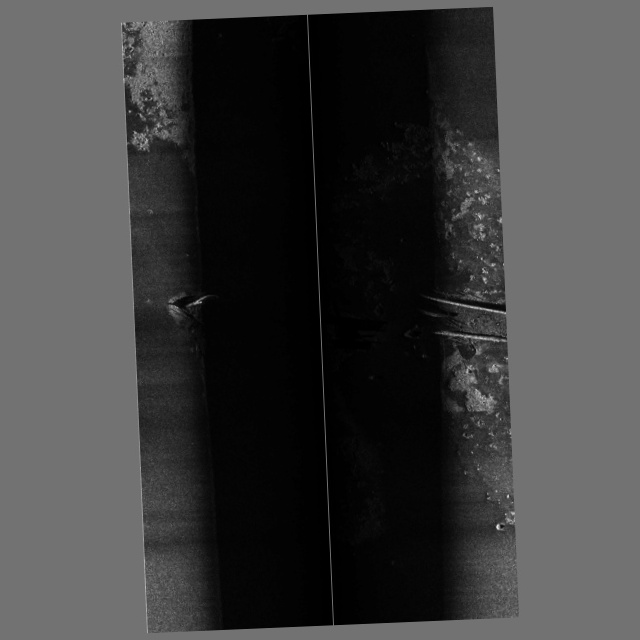Shipwreck: (170, 280, 509, 392)
